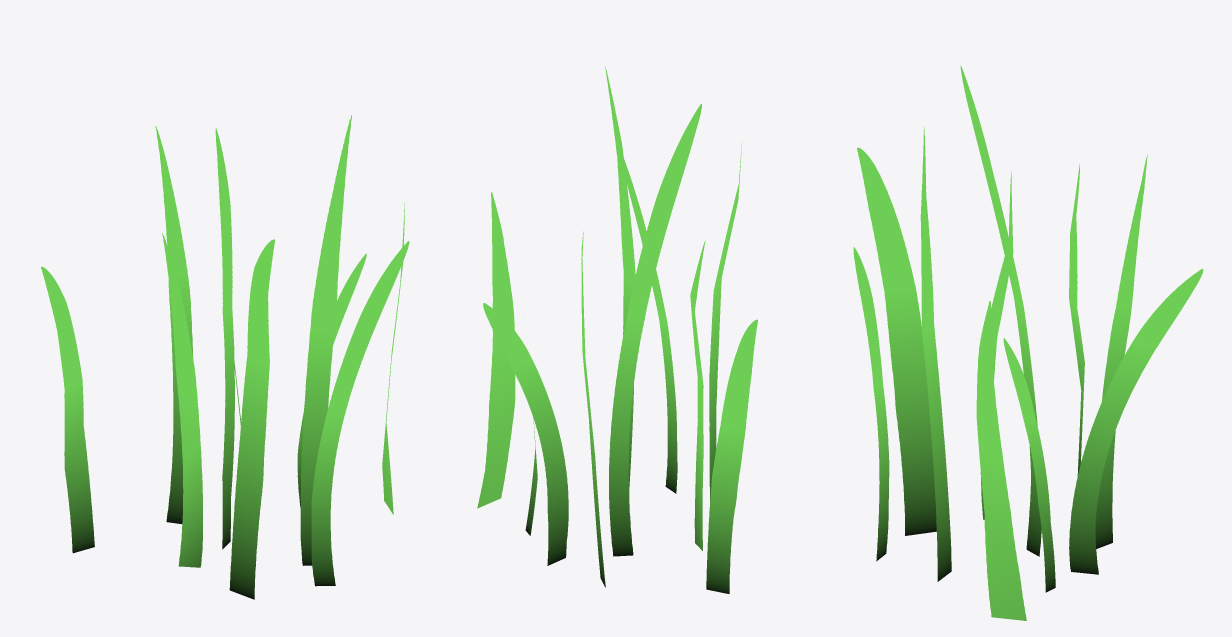
File: Grass1.fbx
The picture shows the model from 3 angles, left to right: view 1: azimuth 30°, elevation 25°; view 2: azimuth 150°, elevation 25°; view 3: azimuth 270°, elevation 25°; orthographic projection. The views are drawn at different scales.
Visible parts, largest first — view 1: Grass1; view 2: Grass1; view 3: Grass1.
Boxes of the visible parts, left/top/right/bottom form: Grass1: left=41, top=115, right=409, bottom=599; Grass1: left=477, top=66, right=757, bottom=593; Grass1: left=853, top=65, right=1203, bottom=620.
Size of the model in its own units: 14.61 by 18.67 by 13.65.
